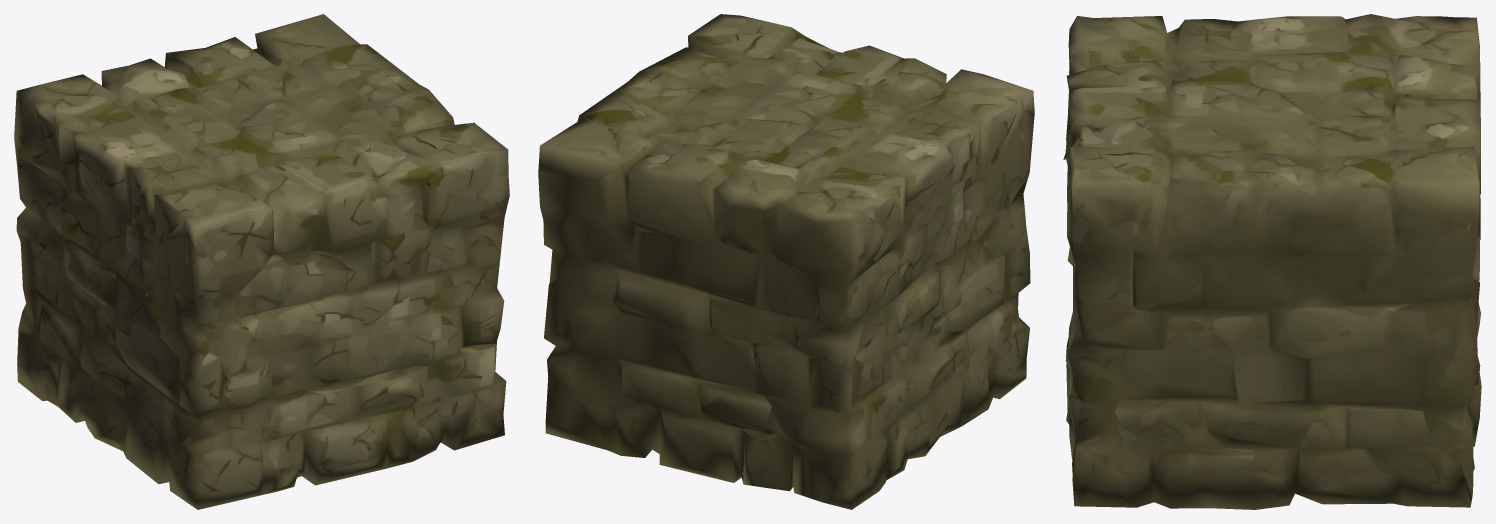
File: Wall_C0_A.glb
3 renders of one model, left to right at view 1: azimuth 30°, elevation 25°; view 2: azimuth 150°, elevation 25°; view 3: azimuth 270°, elevation 25°, orthographic. The views are drawn at different scales.
Parts seen in each view (by area): view 1: tripo_node_c14d6b62-23d1-427a-b321-2be667715f55; view 2: tripo_node_c14d6b62-23d1-427a-b321-2be667715f55; view 3: tripo_node_c14d6b62-23d1-427a-b321-2be667715f55.
Boxes of the visible parts, bbox=[...] form: tripo_node_c14d6b62-23d1-427a-b321-2be667715f55: bbox=[14, 14, 509, 509]; tripo_node_c14d6b62-23d1-427a-b321-2be667715f55: bbox=[538, 14, 1034, 509]; tripo_node_c14d6b62-23d1-427a-b321-2be667715f55: bbox=[1063, 14, 1481, 509].
Size of the model in its own units: 0.9792 by 0.8875 by 1.
Materials: 1 (1 with a texture image).
